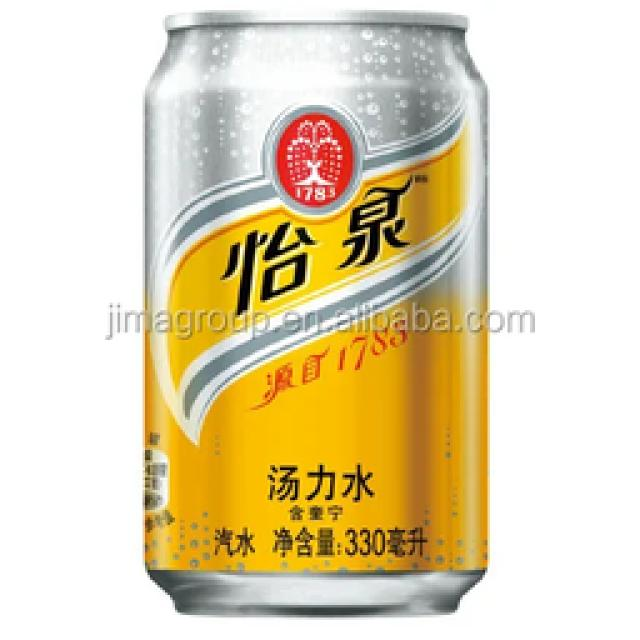aluminum_soda_cans: (140, 9, 492, 624)
